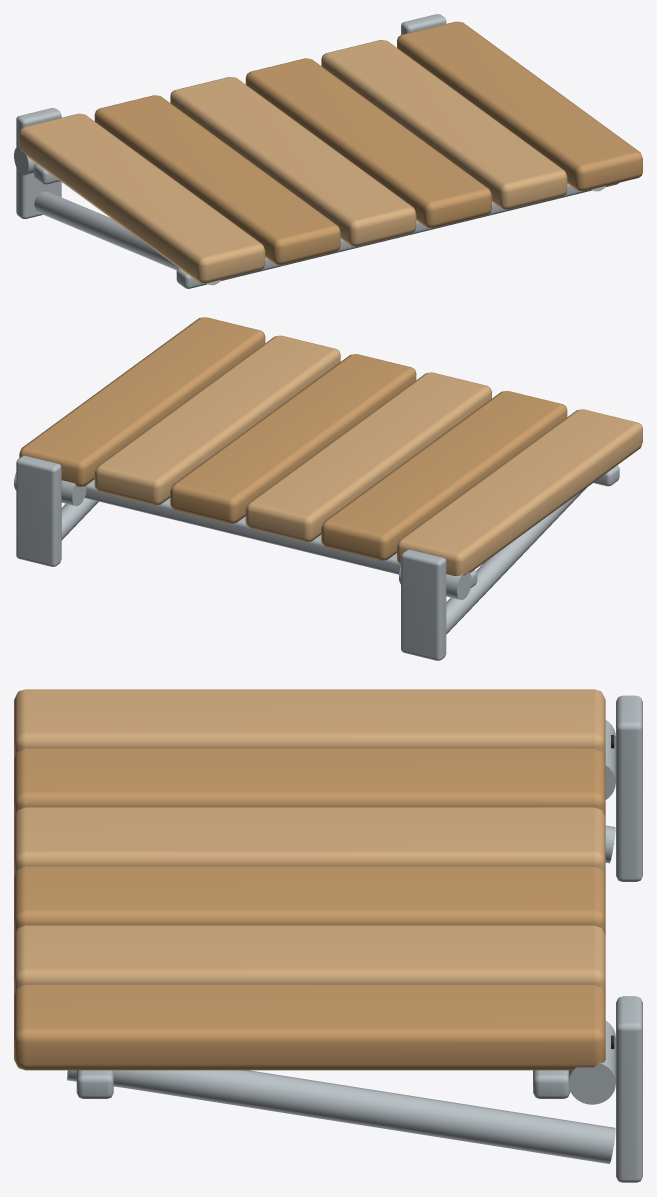
Rendered from bath-folding-shower-seat.glb.
3 views of the same model, one above another, from view 1: azimuth 30°, elevation 25°; view 2: azimuth 150°, elevation 25°; view 3: azimuth 270°, elevation 25° (orthographic). The views are drawn at different scales.
Visible parts, largest first — view 1: bath-folding-shower-seat authored assembly; view 2: bath-folding-shower-seat authored assembly; view 3: bath-folding-shower-seat authored assembly.
Part boxes in pixels (<box>): bath-folding-shower-seat authored assembly: <box>14,14,642,288</box>; bath-folding-shower-seat authored assembly: <box>14,317,642,660</box>; bath-folding-shower-seat authored assembly: <box>14,689,642,1182</box>.
Size of the model in its own units: 0.51 by 0.11 by 0.39.
